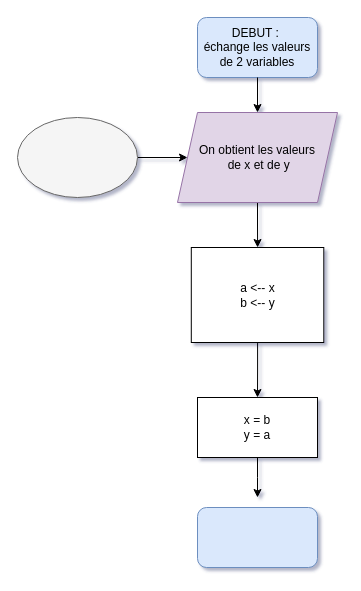
This 361x591 diagram has some shape labels left out. The shapes that lost their labels are listed below. From the top down, each one's centre as x and y in pixels, then its label:
At point 77,157: "input type".
At point 257,537: "FIN".
